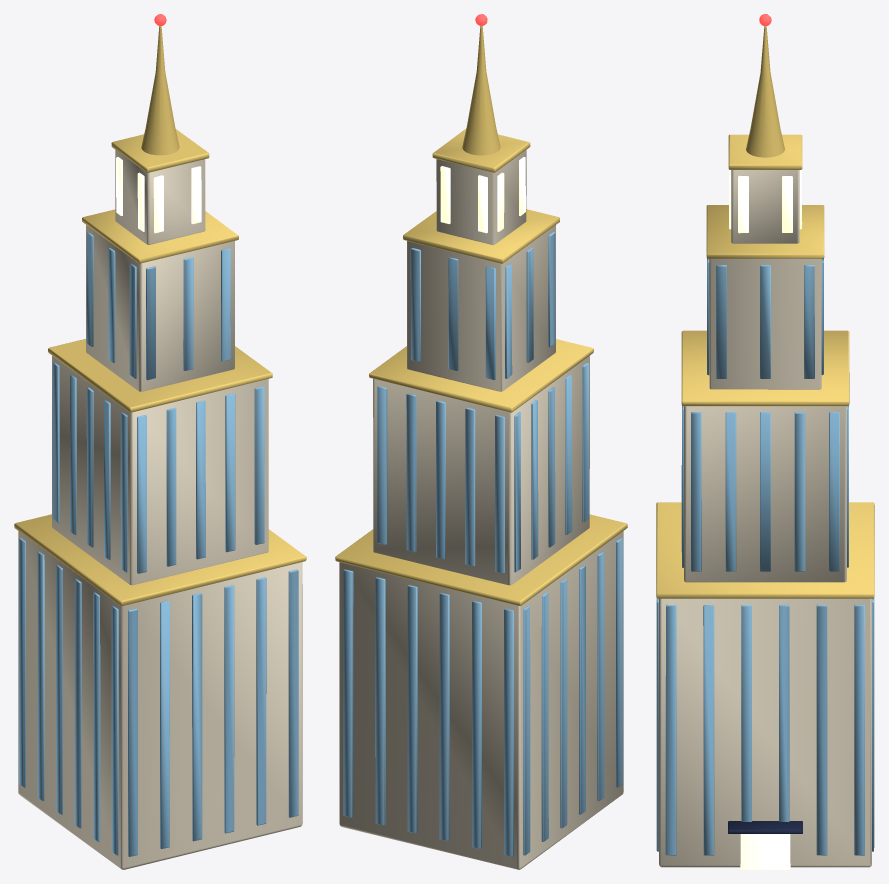
The model's file is skyscraper.glb.
3 views of the same model, side by side, from view 1: azimuth 30°, elevation 25°; view 2: azimuth 150°, elevation 25°; view 3: azimuth 270°, elevation 25° (orthographic).
Parts seen in each view (by area): view 1: skyscraper; view 2: skyscraper; view 3: skyscraper.
Part boxes in pixels (x1,y1,x2,y2): skyscraper: (14,14,306,869); skyscraper: (335,14,627,869); skyscraper: (656,14,874,869).
Size of the model in its own units: 18.88 by 71.09 by 17.37.
Materials: 1 (1 with a texture image).
